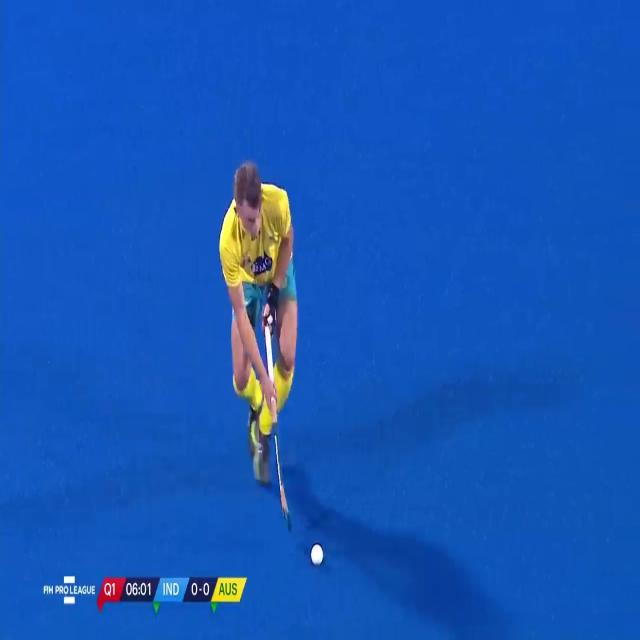ball: (302, 535, 332, 569)
